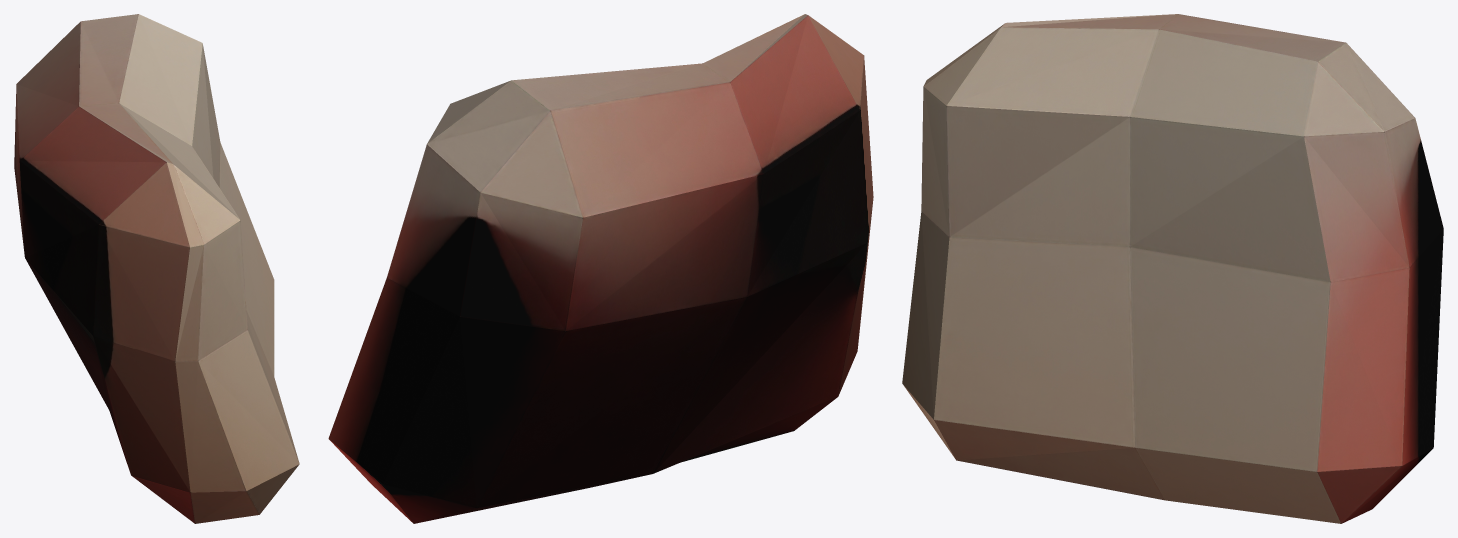
The model's file is couchkissen1_col.gltf.
3 renders of one model, left to right at view 1: azimuth 30°, elevation 25°; view 2: azimuth 150°, elevation 25°; view 3: azimuth 270°, elevation 25°, orthographic. The views are drawn at different scales.
Visible parts, largest first — view 1: Couch_Kissen; view 2: Couch_Kissen; view 3: Couch_Kissen.
Boxes of the visible parts, left/top/right/bottom form: Couch_Kissen: left=14, top=14, right=299, bottom=523; Couch_Kissen: left=328, top=14, right=873, bottom=523; Couch_Kissen: left=902, top=14, right=1443, bottom=523.
Bounding box in the file's own units: 0.8158 × 0.9721 × 1.1.
Materials: 1 (1 with a texture image).
